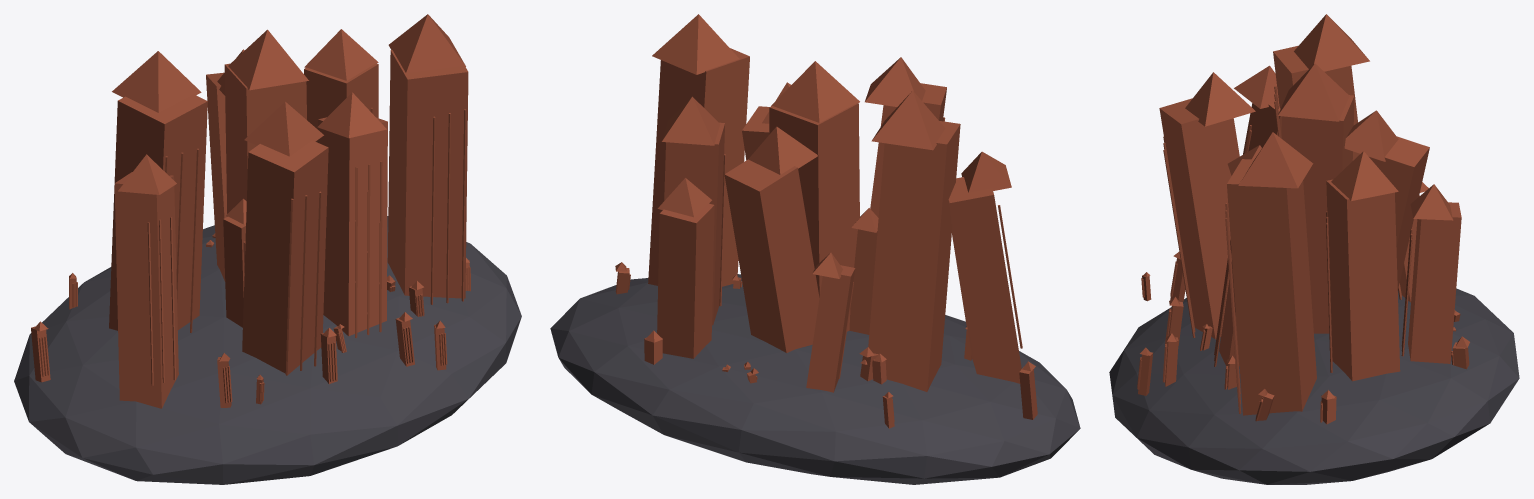
The model's file is rutile.glb.
3 renders of one model, left to right at view 1: azimuth 30°, elevation 25°; view 2: azimuth 150°, elevation 25°; view 3: azimuth 270°, elevation 25°, orthographic. The views are drawn at different scales.
Visible parts, largest first — view 1: Rutile; view 2: Rutile; view 3: Rutile.
Boxes of the visible parts, box(x1,y1,x2,y2) form: Rutile: box(14, 14, 521, 484); Rutile: box(550, 14, 1080, 484); Rutile: box(1109, 14, 1519, 484).
Size of the model in its own units: 3.96 by 3.04 by 3.03.
